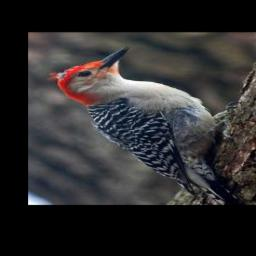Woodpecker: (46, 47, 243, 204)
